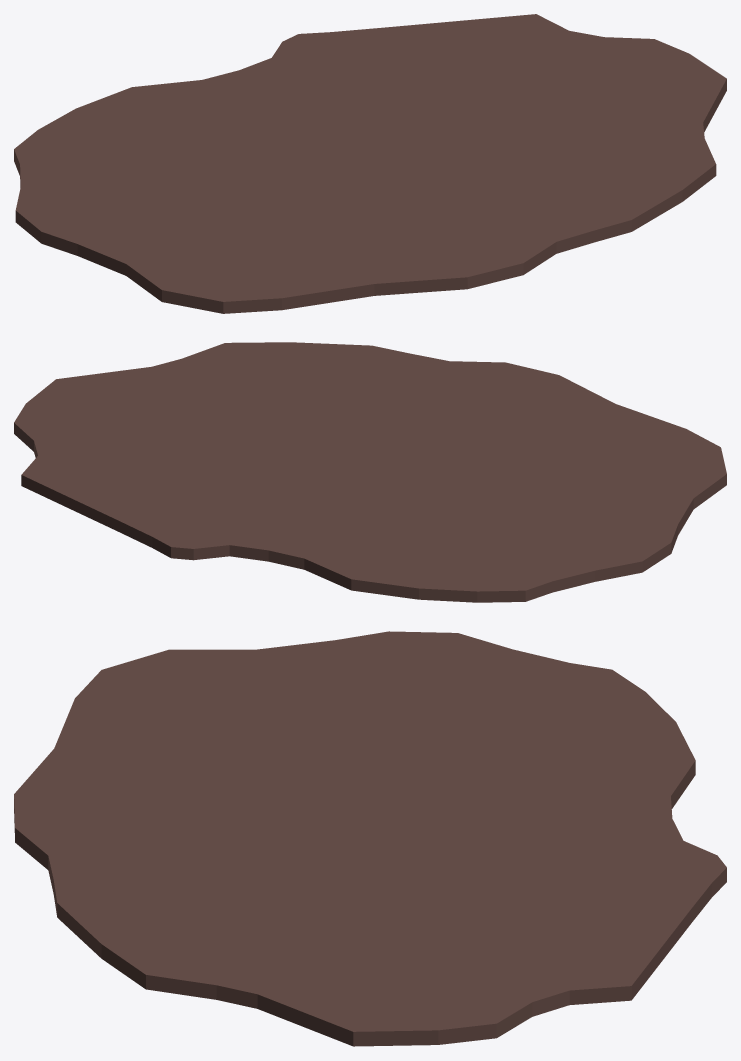
Rendered from Sand 8.FBX.
3 renders of one model, top to bottom at view 1: azimuth 30°, elevation 25°; view 2: azimuth 150°, elevation 25°; view 3: azimuth 270°, elevation 25°, orthographic. The views are drawn at different scales.
Parts seen in each view (by area): view 1: Plane001; view 2: Plane001; view 3: Plane001.
Boxes of the visible parts, bbox=[...] form: Plane001: bbox=[14, 14, 726, 313]; Plane001: bbox=[14, 342, 726, 602]; Plane001: bbox=[14, 631, 726, 1046].
Size of the model in its own units: 146 by 2.49 by 110.
